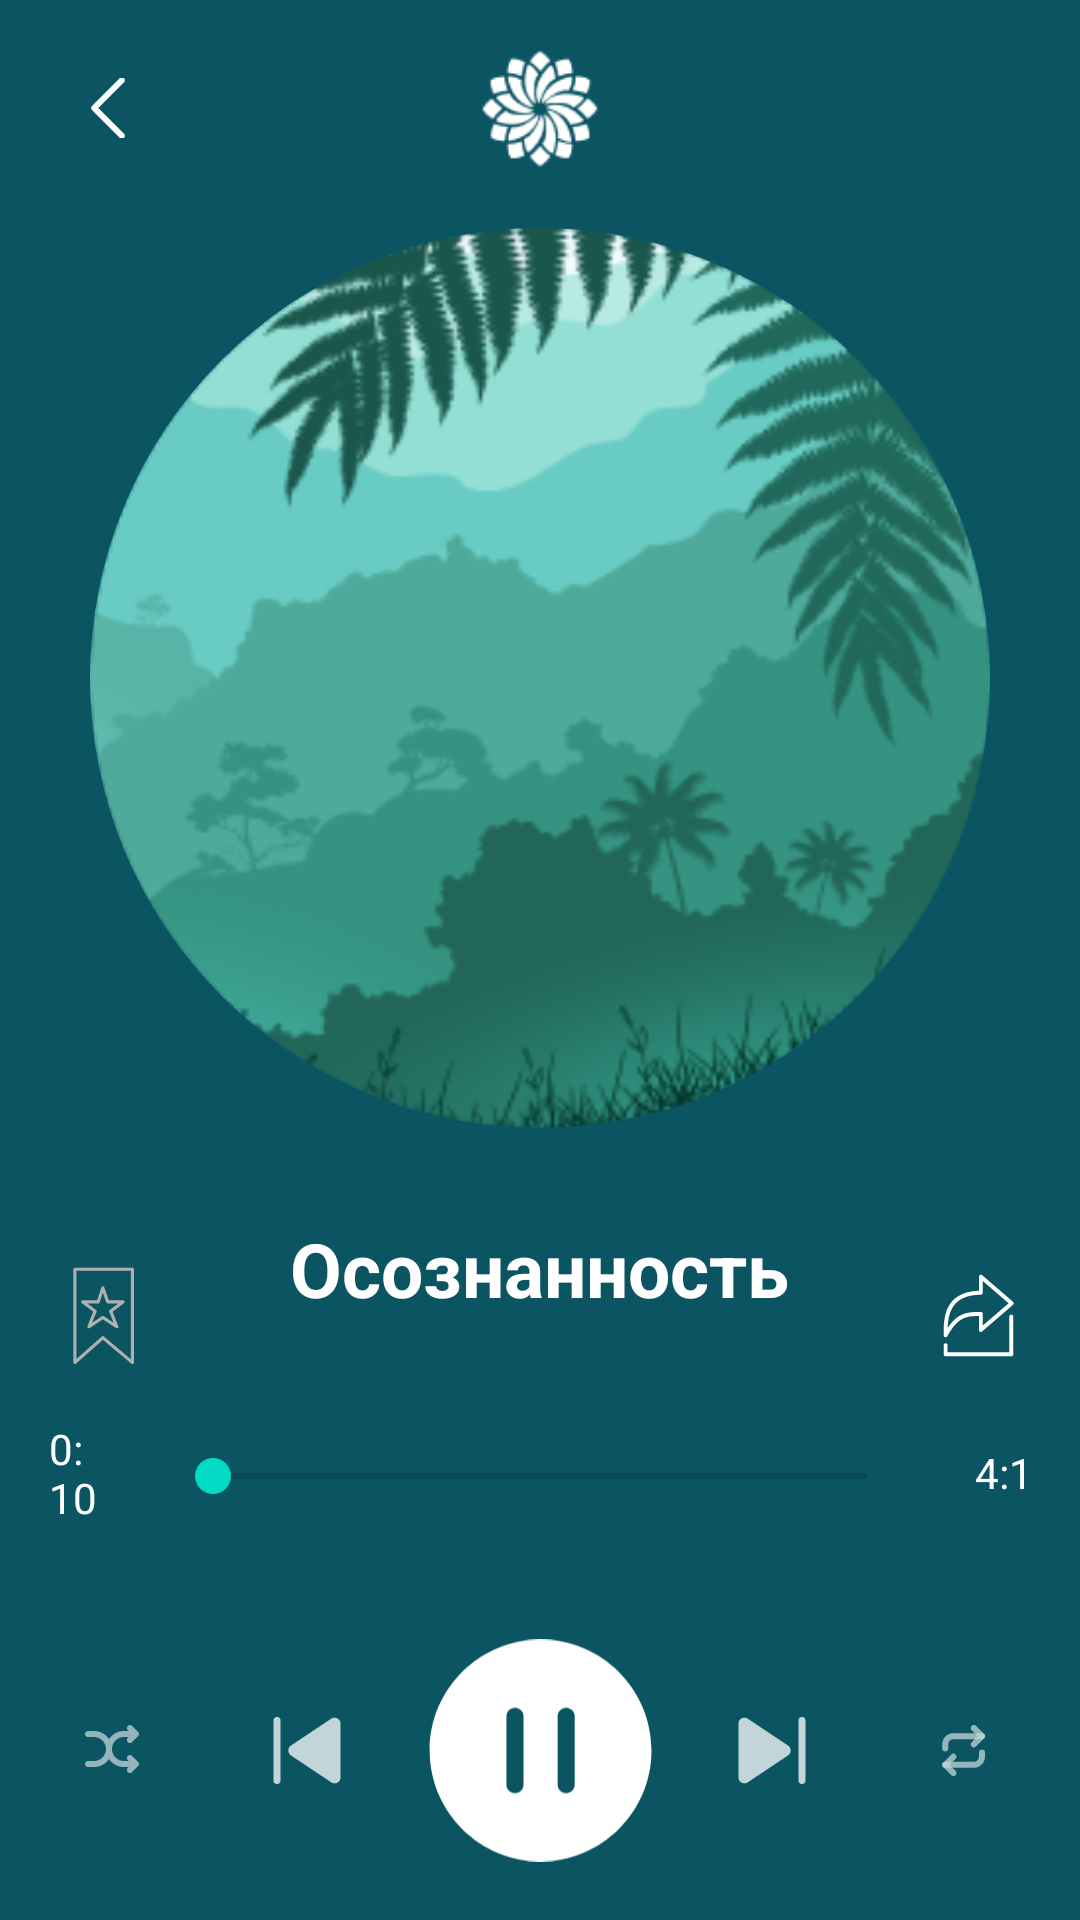

Point at icon controls on the screen. Image size 1080*1920, points as (x=x, y=y).
player favorite off: (x=103, y=1315)
player pause: (x=540, y=1750)
player random off: (x=112, y=1749)
player repeat off: (x=963, y=1750)
player share on: (x=978, y=1315)
player song next: (x=772, y=1750)
player song prev: (x=307, y=1750)
